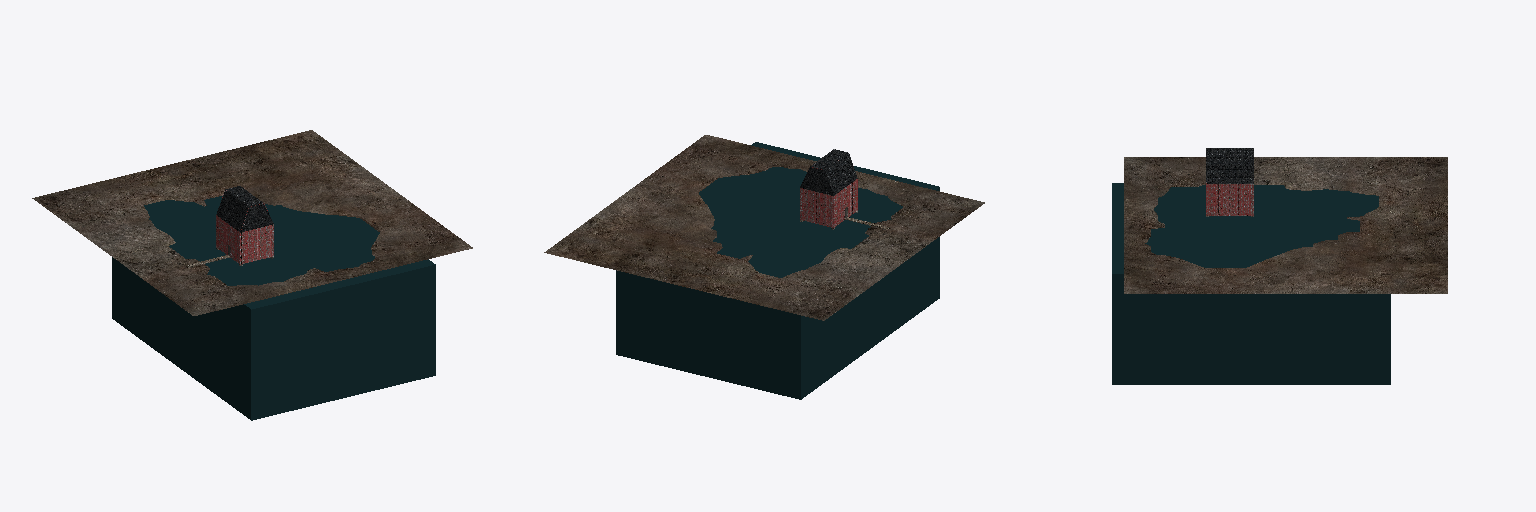
The picture shows the model from 3 angles: view 1: azimuth 30°, elevation 25°; view 2: azimuth 150°, elevation 25°; view 3: azimuth 270°, elevation 25°; orthographic projection.
Visible parts, largest first — view 1: riverhouse_no_models; view 2: riverhouse_no_models; view 3: riverhouse_no_models.
Boxes of the visible parts, <box> form: riverhouse_no_models: <box>32,130,472,420</box>; riverhouse_no_models: <box>544,135,984,399</box>; riverhouse_no_models: <box>1112,148,1447,384</box>.
Size of the model in its own units: 75.2 by 44.58 by 78.08.
8 materials, 7 textured.